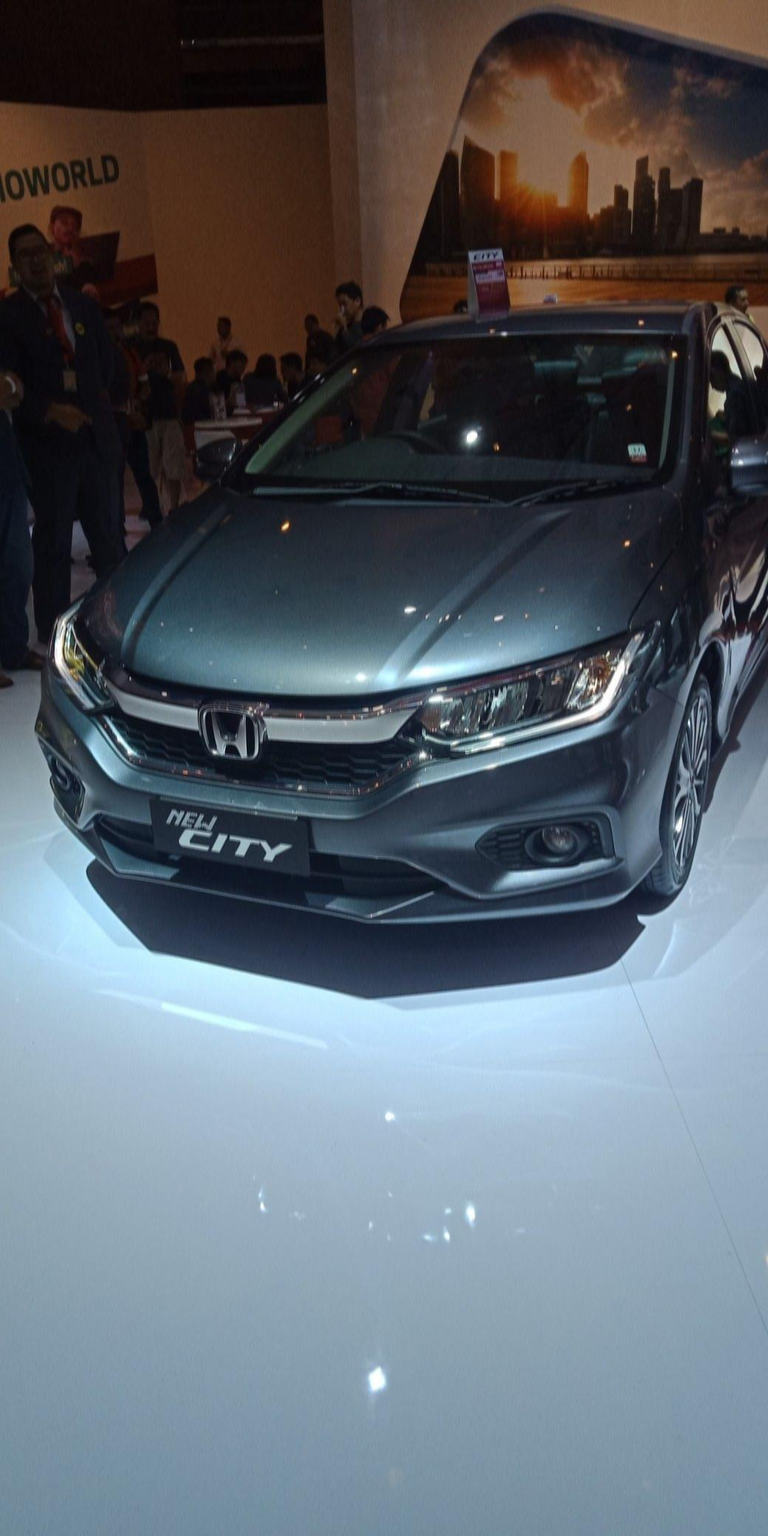Car hood: (100, 491, 695, 708)
Fender - -F-L-: (620, 442, 719, 720)
Front bumper: (33, 664, 685, 931)
Headlight - -L-: (416, 626, 648, 768)
Headlight - -R-: (51, 590, 110, 718)
Side mirror - -L-: (725, 429, 768, 506)
Side mirror - -R-: (189, 431, 244, 488)
